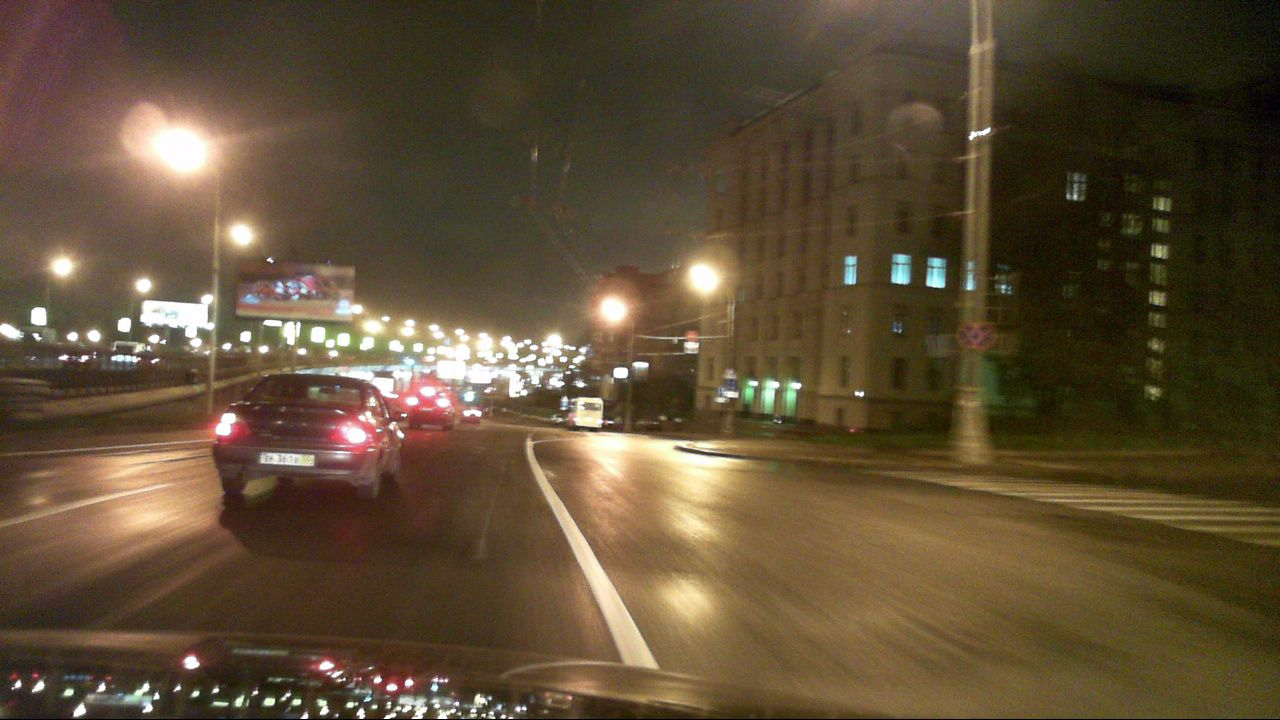No Parking: (953, 317, 988, 351)
